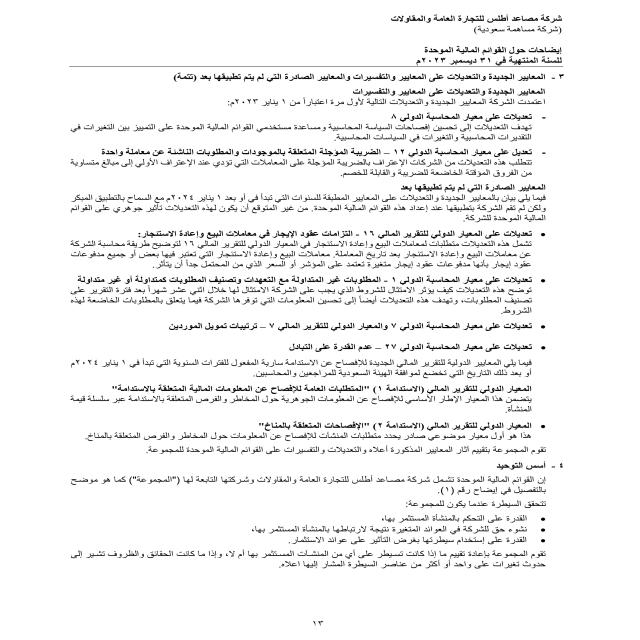notes: (409, 44, 572, 54)
text: (19, 63, 580, 586)
